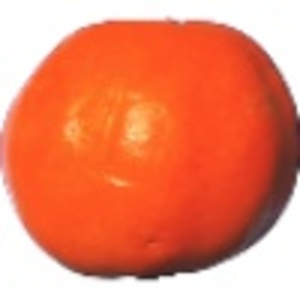tangerina: (1, 16, 300, 281)
